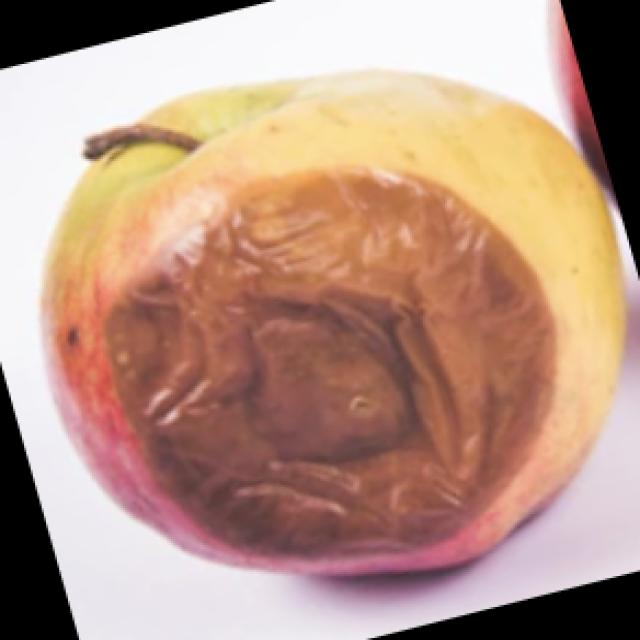organik: (65, 69, 634, 591)
